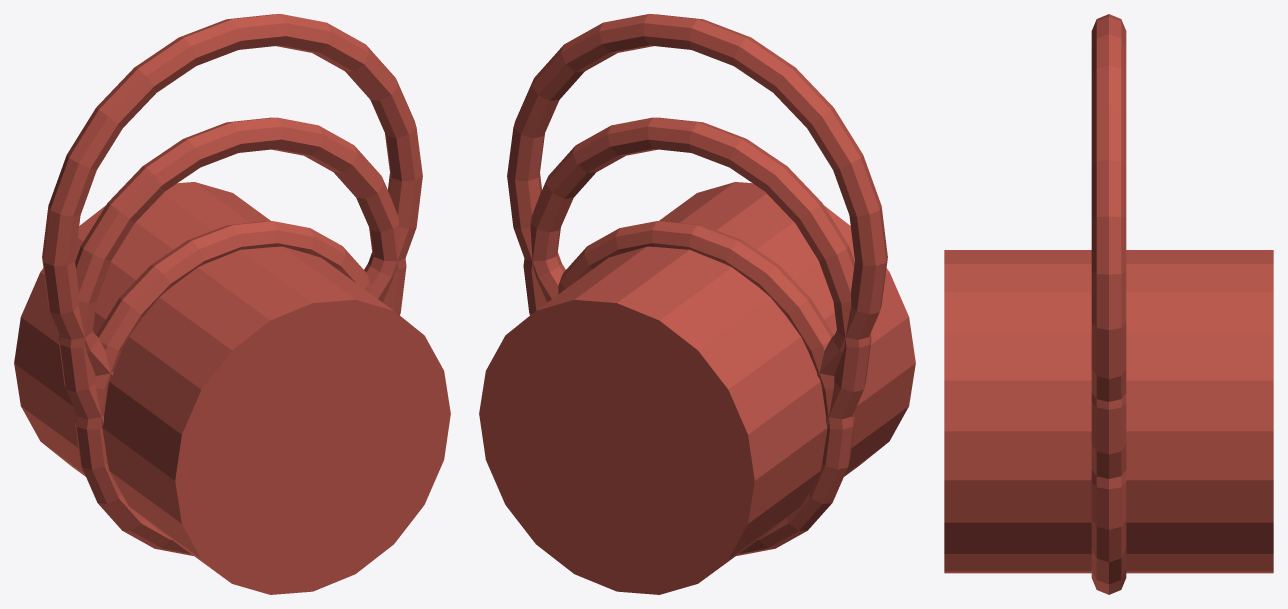
File: food_046.glb
3 renders of one model, left to right at view 1: azimuth 30°, elevation 25°; view 2: azimuth 150°, elevation 25°; view 3: azimuth 270°, elevation 25°, orthographic. The views are drawn at different scales.
Parts seen in each view (by area): view 1: world; view 2: world; view 3: world.
Boxes of the visible parts, x1,y1,x2,y2 form: world: (14, 14, 450, 594); world: (479, 14, 915, 594); world: (944, 14, 1273, 594).
Bounding box in the file's own units: 1.15 × 1.55 × 0.85.
